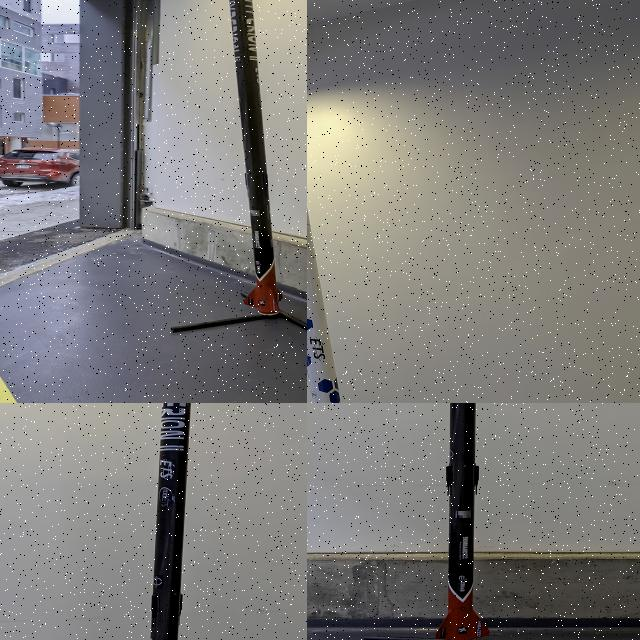Rocket: (229, 0, 283, 316), (435, 403, 490, 640), (150, 403, 191, 640), (307, 204, 341, 403)
